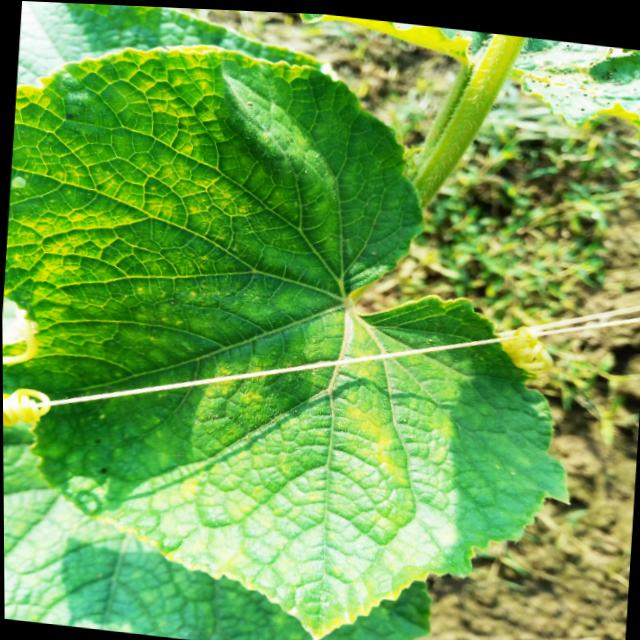Fresh-Leaf: (3, 46, 573, 637)
